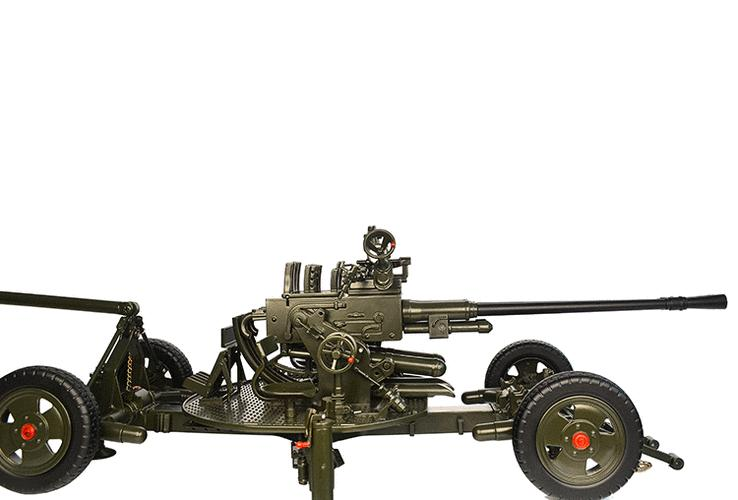MIL_SPG: (0, 226, 726, 499)
